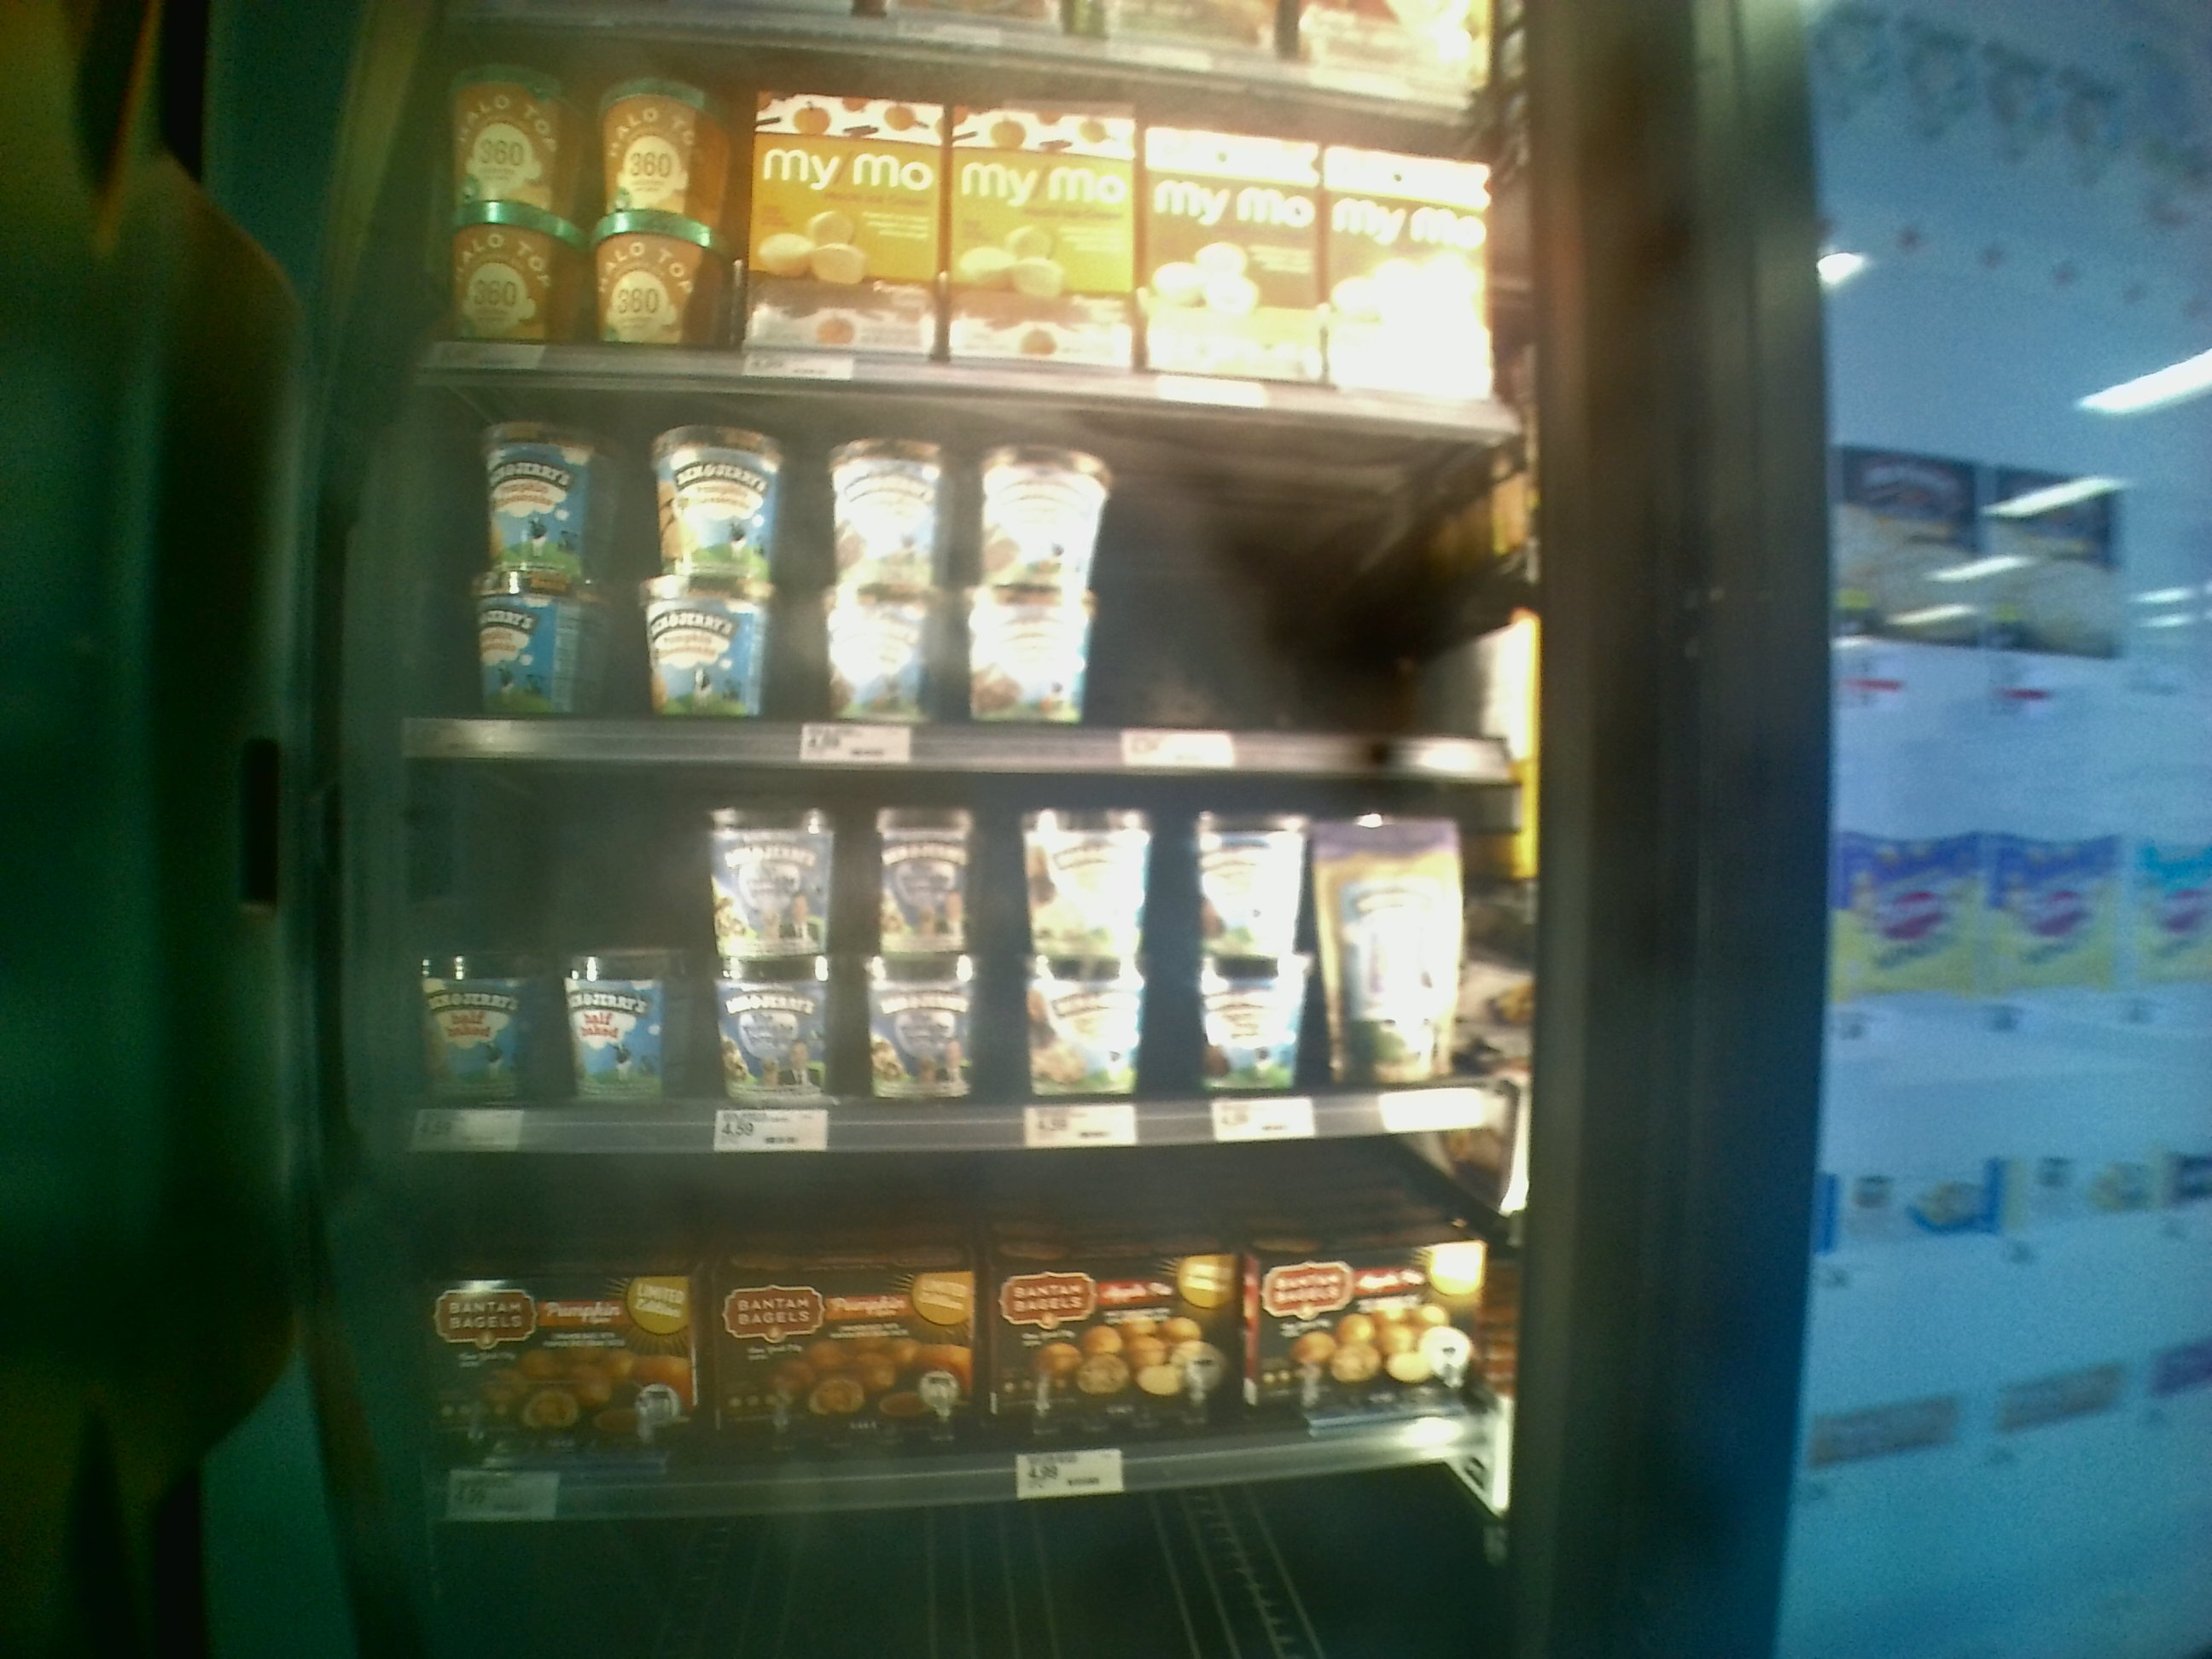shelf: (359, 342, 1514, 749), (350, 732, 1534, 1127), (374, 1127, 1475, 1453)
